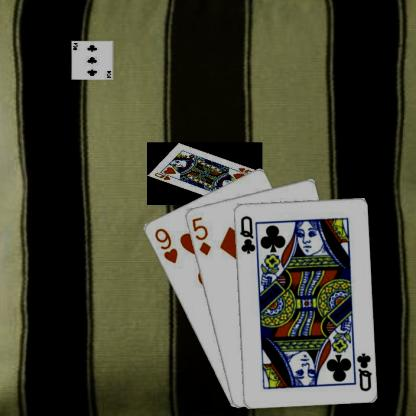5D: (189, 214, 212, 256)
9H: (152, 225, 178, 265)
QC: (237, 213, 256, 255), (354, 350, 372, 392)
